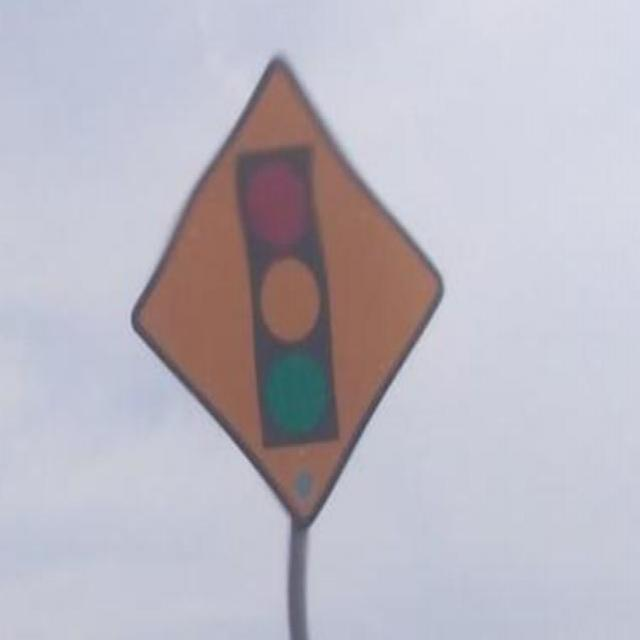traffic sign: (136, 63, 438, 520)
